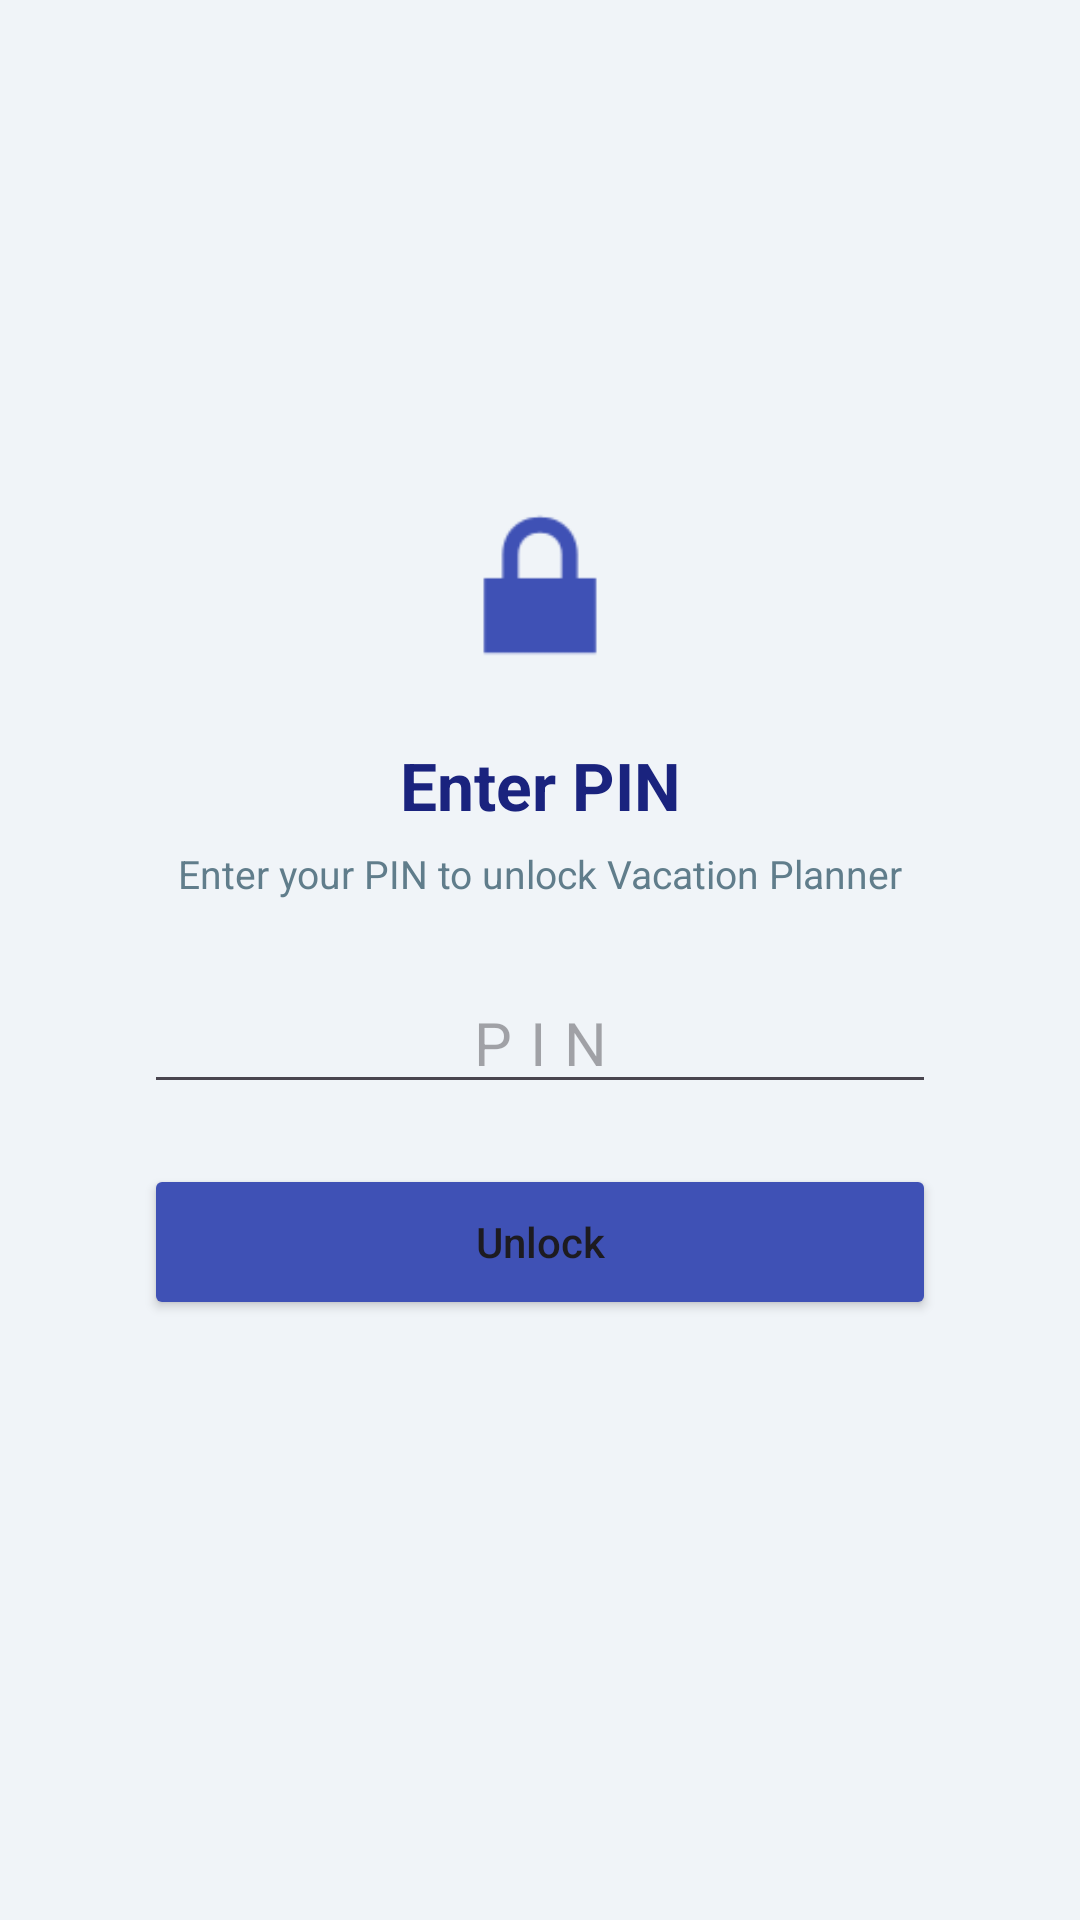

Where to tap for icons on this 1080 × 1920 app screen, as (x,y):
lock: (540,585)
